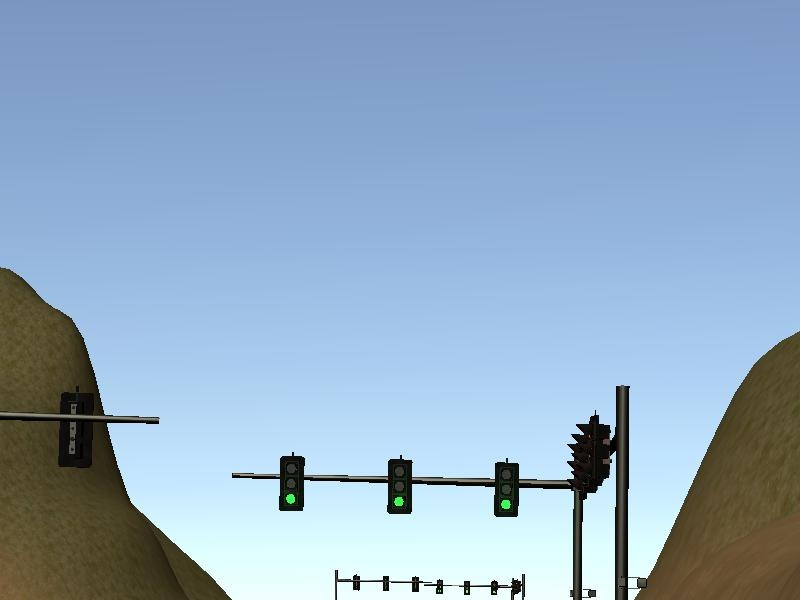traffic_light_green: (238, 452, 569, 519)
